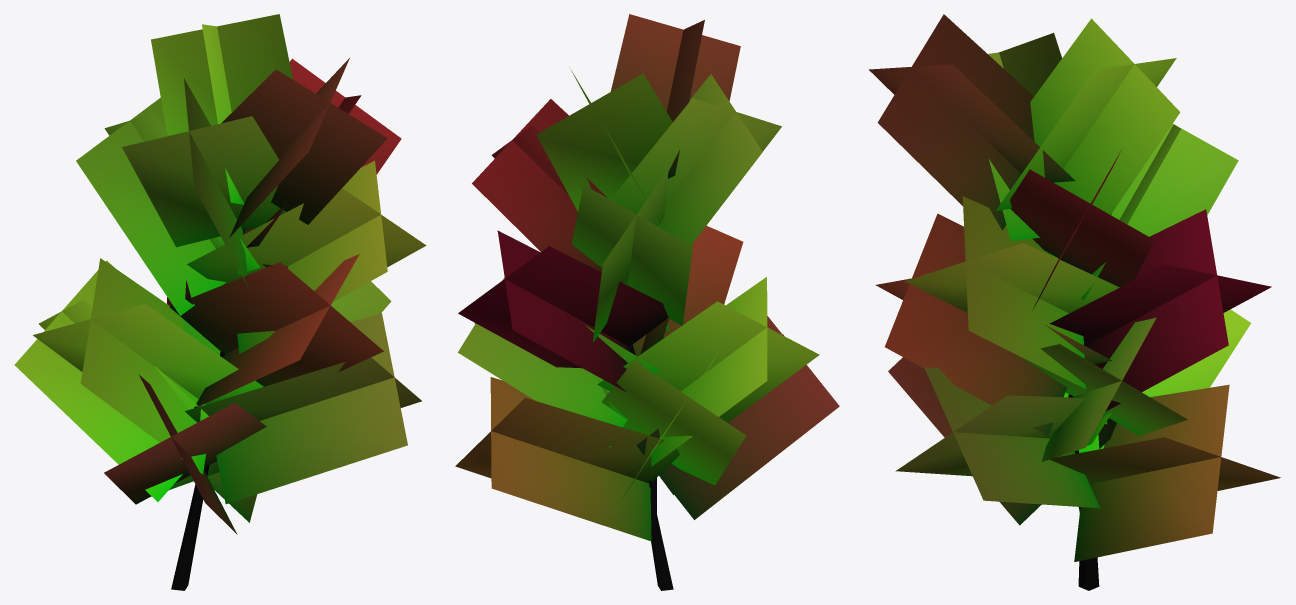
The model's file is SuperTree_4.fbx.
3 views of the same model, side by side, from view 1: azimuth 30°, elevation 25°; view 2: azimuth 150°, elevation 25°; view 3: azimuth 270°, elevation 25° (orthographic). The views are drawn at different scales.
Visible parts, largest first — view 1: SuperTree_4; view 2: SuperTree_4; view 3: SuperTree_4.
Part boxes in pixels (box(x1,y1,x2,y2)): SuperTree_4: box(14, 14, 426, 590); SuperTree_4: box(455, 14, 839, 590); SuperTree_4: box(869, 14, 1280, 590).
Size of the model in its own units: 499 by 780 by 498.
